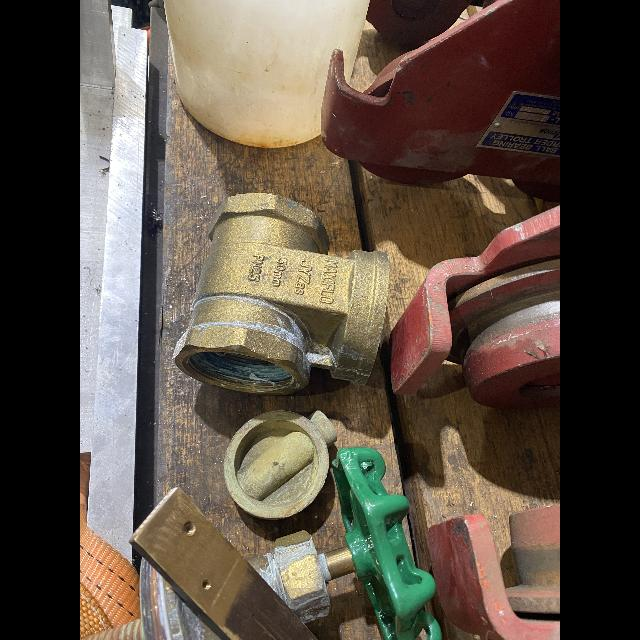Brass: (174, 193, 389, 395), (130, 488, 317, 640), (81, 559, 219, 640), (246, 531, 355, 622)
Ferrous Metal: (321, 0, 560, 201), (80, 0, 144, 560), (389, 205, 560, 410), (332, 447, 442, 640), (428, 504, 560, 640)
